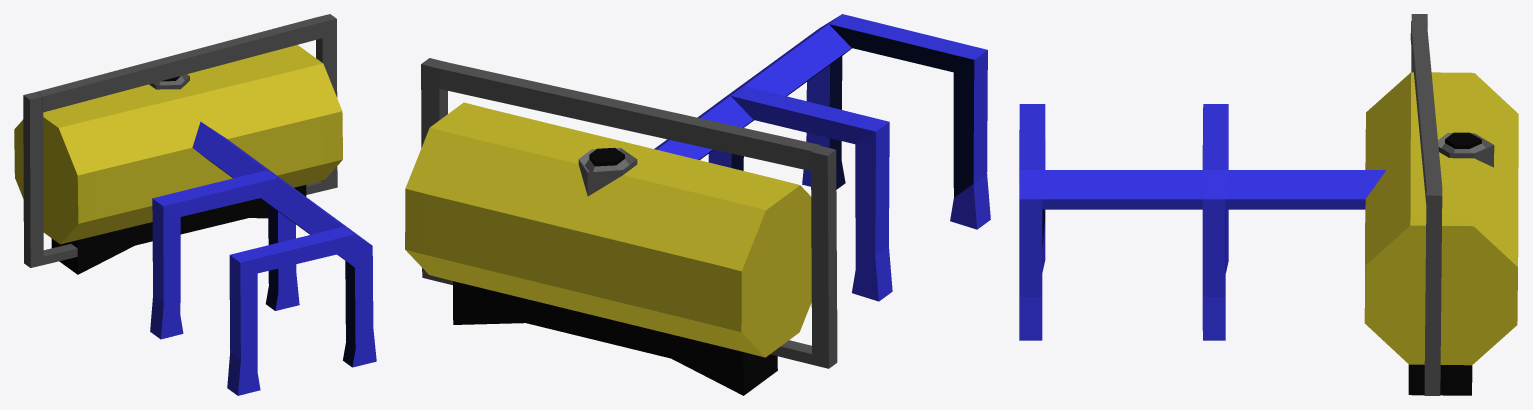
File: Maquina.fbx
The picture shows the model from 3 angles, left to right: view 1: azimuth 30°, elevation 25°; view 2: azimuth 150°, elevation 25°; view 3: azimuth 270°, elevation 25°; orthographic projection. The views are drawn at different scales.
Visible parts, largest first — view 1: tanque; view 2: tanque; view 3: tanque.
Boxes of the visible parts, x1,y1,x2,y2 form: tanque: [14, 14, 376, 395]; tanque: [405, 14, 990, 395]; tanque: [1019, 14, 1518, 395].
Size of the model in its own units: 2093 by 1192 by 2428.
